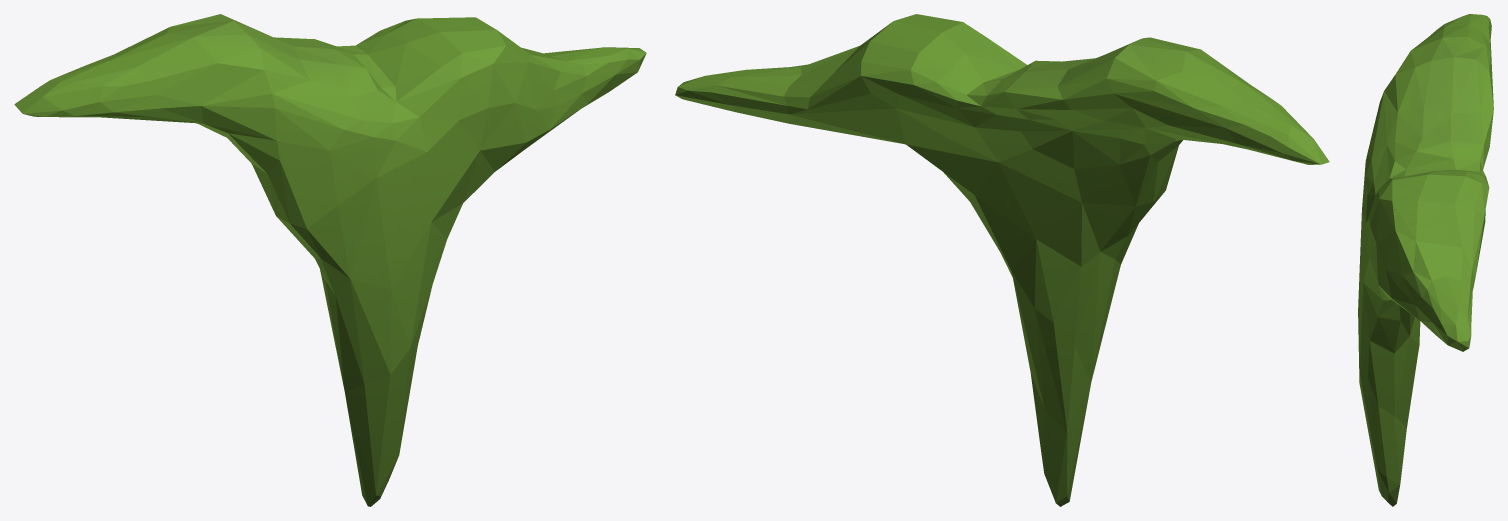
The model's file is Cavern_BushTopper-04.fbx.
The picture shows the model from 3 angles, left to right: view 1: azimuth 30°, elevation 25°; view 2: azimuth 150°, elevation 25°; view 3: azimuth 270°, elevation 25°; orthographic projection. The views are drawn at different scales.
Parts seen in each view (by area): view 1: Cavern_BushTopper-04; view 2: Cavern_BushTopper-04; view 3: Cavern_BushTopper-04.
Boxes of the visible parts, bbox=[...] form: Cavern_BushTopper-04: bbox=[14, 14, 646, 506]; Cavern_BushTopper-04: bbox=[675, 14, 1329, 506]; Cavern_BushTopper-04: bbox=[1358, 14, 1493, 506].
Size of the model in its own units: 712 by 535 by 161.
1 material, 1 textured.
